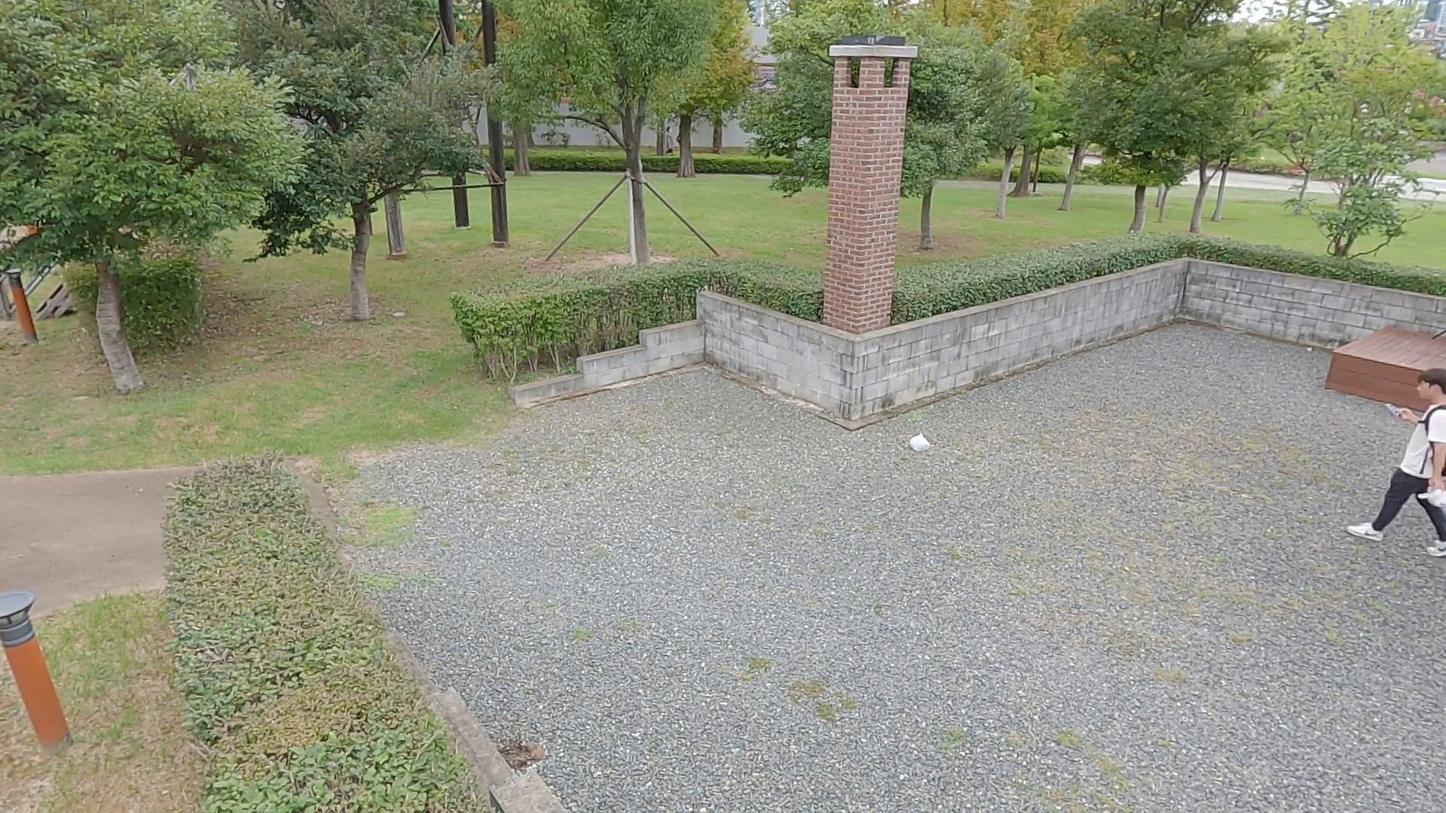person: (1345, 366, 1446, 563)
trash: (1416, 485, 1446, 513), (907, 434, 930, 454)
